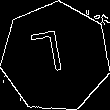L_S: (36, 29, 75, 85)
